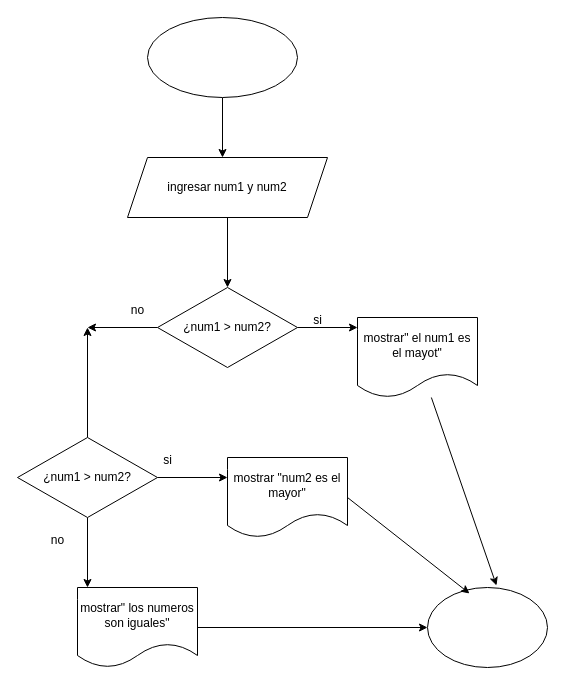
Image size: 565x685. Some labels were removed from this diagram. The shapes that lost their labels are listed below. From the top down, each one's centre as x and y in pixels, then its label:
At pixel 222 57: "Inicio".
At pixel 487 627: "Fin".
